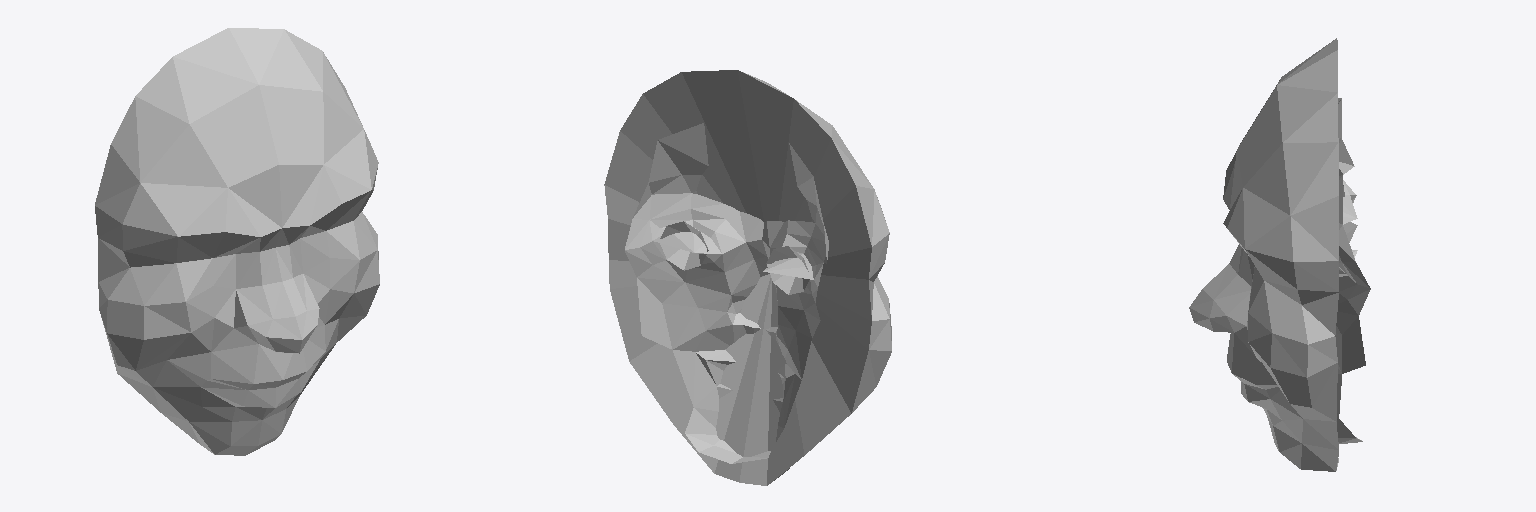
The model's file is YellowMask.obj.
3 views of the same model, side by side, from view 1: azimuth 30°, elevation 25°; view 2: azimuth 150°, elevation 25°; view 3: azimuth 270°, elevation 25° (orthographic).
Visible parts, largest first — view 1: Mask_Mesh_3400.rip_Mesh_3400.rip_mesh0000; view 2: Mask_Mesh_3400.rip_Mesh_3400.rip_mesh0000; view 3: Mask_Mesh_3400.rip_Mesh_3400.rip_mesh0000.
Part boxes in pixels (bbox=[...]): Mask_Mesh_3400.rip_Mesh_3400.rip_mesh0000: bbox=[95, 28, 379, 455]; Mask_Mesh_3400.rip_Mesh_3400.rip_mesh0000: bbox=[604, 70, 891, 485]; Mask_Mesh_3400.rip_Mesh_3400.rip_mesh0000: bbox=[1189, 38, 1370, 471].
Bounding box in the file's own units: 1.1 × 1.59 × 0.6348.